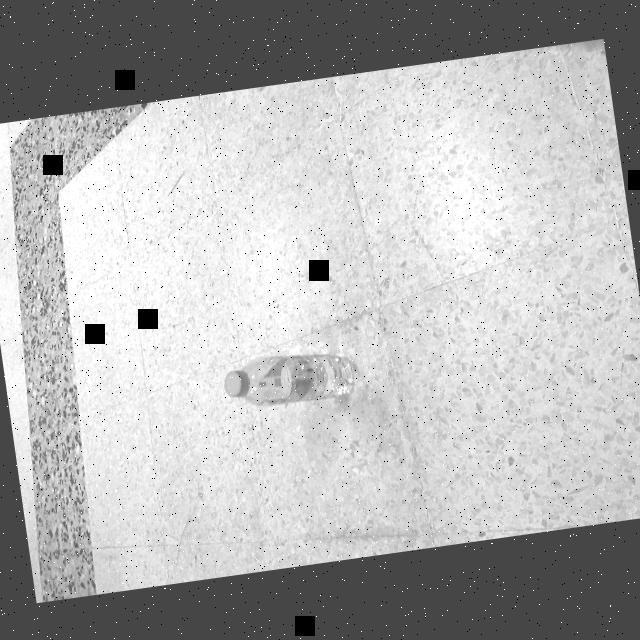plastic_bottle: (222, 342, 358, 412)
plastic_bottle_cap: (221, 366, 251, 399)
